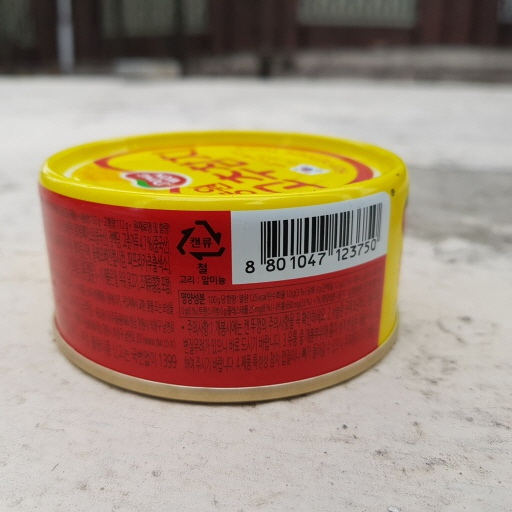Metal_1: (34, 127, 411, 408)
